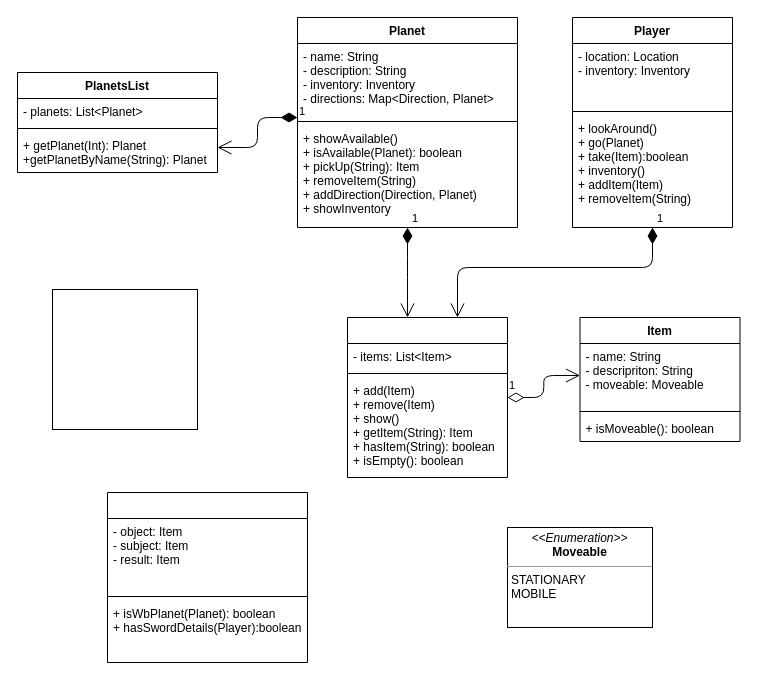
Image size: 758x683. Some labels were removed from this diagram. The box of each missing label's shape, as (x1, y1, x2, y2) in pixels:
<<Enumeration>> Direction UP DOWN LEFT RIGHT: (52, 288, 198, 430)
CraftSword: (106, 492, 308, 662)
Inventory: (346, 316, 508, 478)
